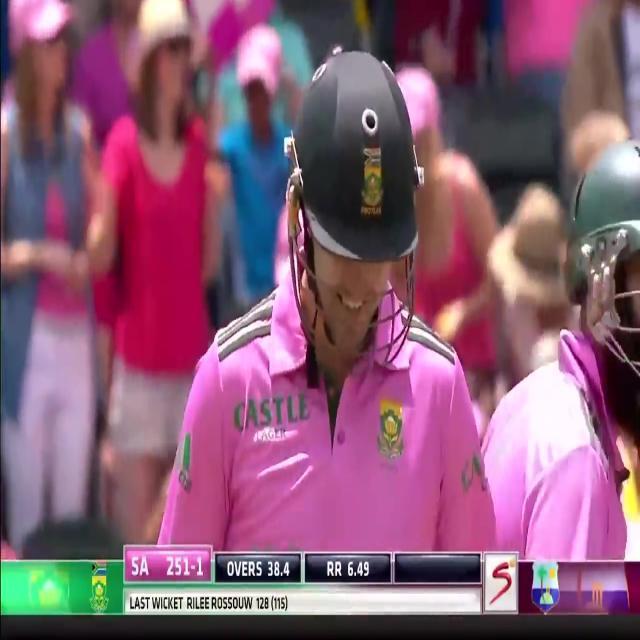Ball: (159, 48, 495, 556), (583, 128, 640, 533)
